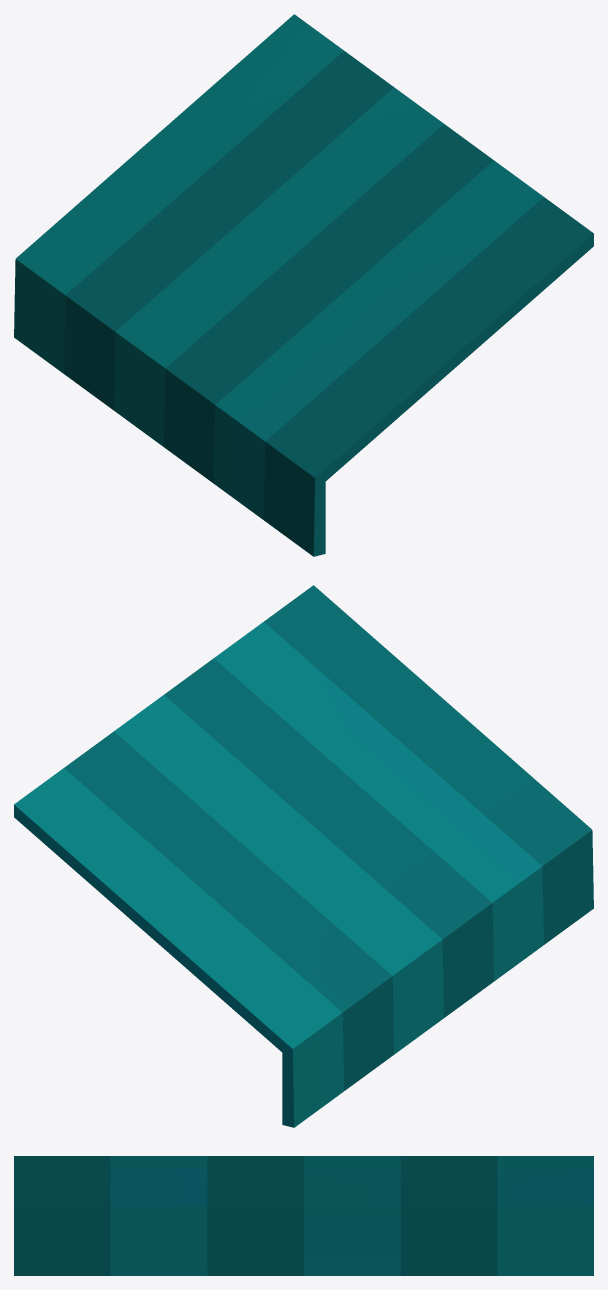
The model's file is Awning_2_G.fbx.
The picture shows the model from 3 angles, top to bottom: view 1: azimuth 30°, elevation 25°; view 2: azimuth 150°, elevation 25°; view 3: azimuth 270°, elevation 25°; orthographic projection. The views are drawn at different scales.
Visible parts, largest first — view 1: Awning_2_G; view 2: Awning_2_G; view 3: Awning_2_G.
Part boxes in pixels (<box>): Awning_2_G: <box>14,14,593,556</box>; Awning_2_G: <box>14,585,593,1127</box>; Awning_2_G: <box>14,1156,593,1275</box>.
Size of the model in its own units: 111 by 96.45 by 205.
